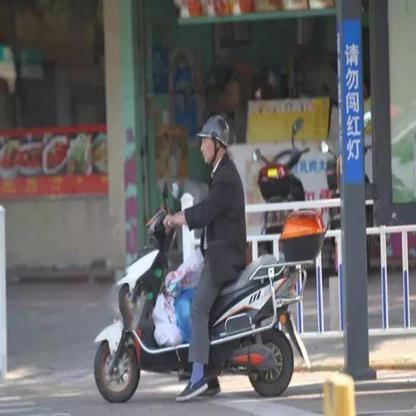target: (89, 114, 329, 404)
